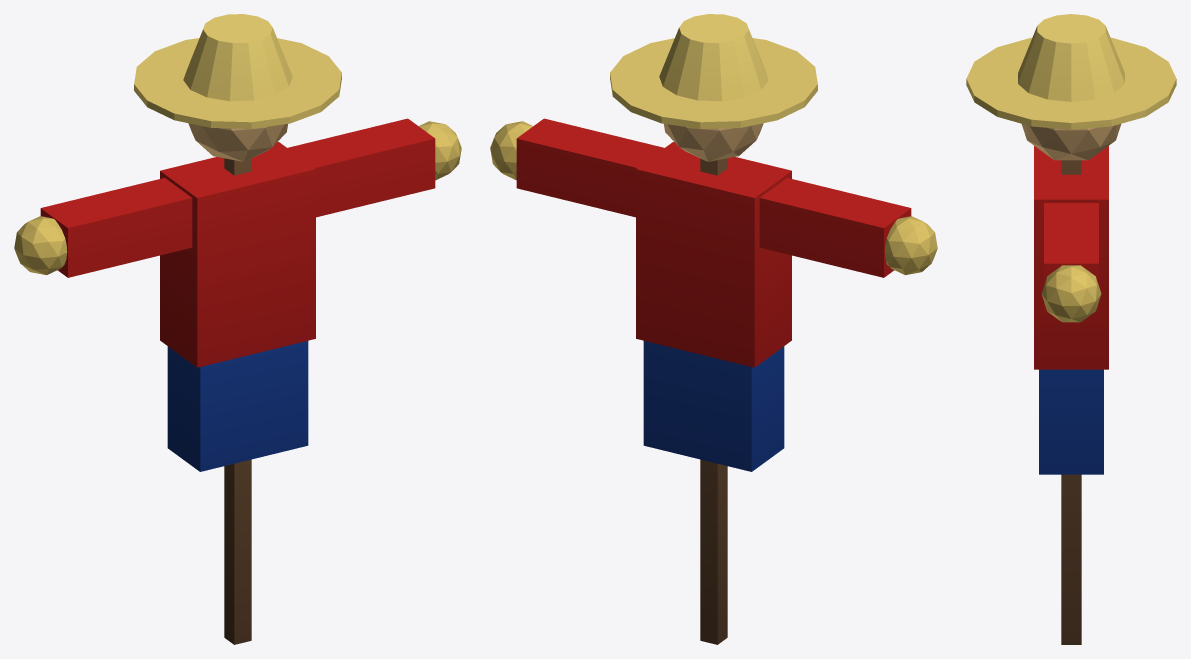
File: Scarecrow.fbx
3 views of the same model, side by side, from view 1: azimuth 30°, elevation 25°; view 2: azimuth 150°, elevation 25°; view 3: azimuth 270°, elevation 25° (orthographic).
Parts seen in each view (by area): view 1: Scarecrow_LOD0; view 2: Scarecrow_LOD0; view 3: Scarecrow_LOD0.
Boxes of the visible parts, bbox=[...] form: Scarecrow_LOD0: bbox=[14, 14, 461, 644]; Scarecrow_LOD0: bbox=[490, 14, 937, 644]; Scarecrow_LOD0: bbox=[966, 14, 1176, 644].
Size of what is drawn, in the model's own units: 2.03 by 2.7 by 0.84.
1 material, 1 textured.
